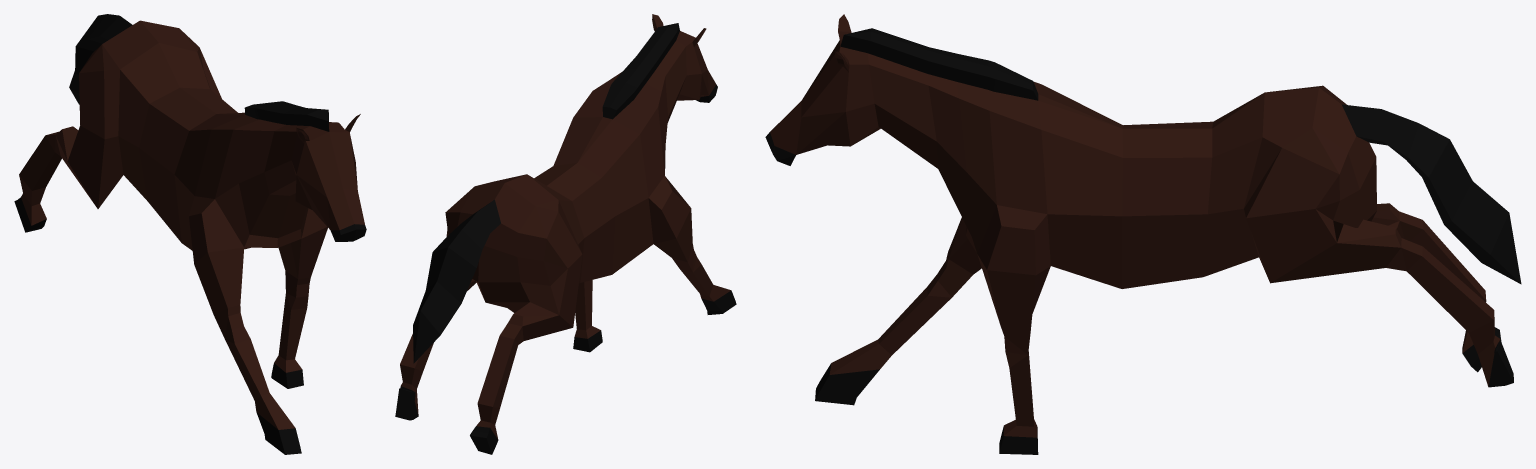
File: Horse_000015.obj
The picture shows the model from 3 angles, left to right: view 1: azimuth 30°, elevation 25°; view 2: azimuth 150°, elevation 25°; view 3: azimuth 270°, elevation 25°; orthographic projection. The views are drawn at different scales.
Visible parts, largest first — view 1: Horse_Cylinder; view 2: Horse_Cylinder; view 3: Horse_Cylinder.
Part boxes in pixels (left/top/right/bottom): Horse_Cylinder: left=14, top=14, right=366, bottom=454; Horse_Cylinder: left=395, top=14, right=736, bottom=454; Horse_Cylinder: left=765, top=14, right=1521, bottom=454.
Bounding box in the file's own units: 2.69 × 6.06 × 10.4.
